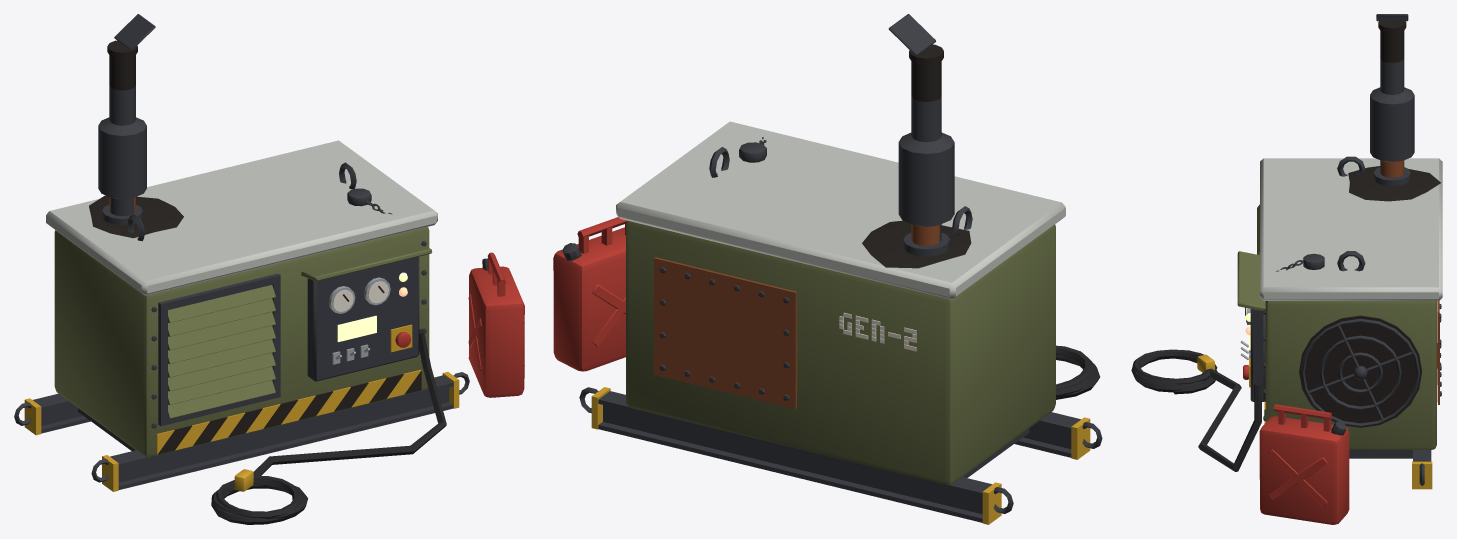
The model's file is deco_salvage_generator.fbx.
3 renders of one model, left to right at view 1: azimuth 30°, elevation 25°; view 2: azimuth 150°, elevation 25°; view 3: azimuth 270°, elevation 25°, orthographic. The views are drawn at different scales.
Visible parts, largest first — view 1: Salvage_Generator_Body, Salvage_Generator_Panel, Salvage_Generator_Skid, Salvage_Generator_Exhaust, Salvage_Generator_Can, Salvage_Generator_Cable; view 2: Salvage_Generator_Body, Salvage_Generator_Skid, Salvage_Generator_Exhaust, Salvage_Generator_Can, Salvage_Generator_Cable; view 3: Salvage_Generator_Body, Salvage_Generator_Can, Salvage_Generator_Exhaust, Salvage_Generator_Cable, Salvage_Generator_Panel, Salvage_Generator_Skid.
Part boxes in pixels (x1,y1,x2,y2): Salvage_Generator_Body: (46,140,437,457); Salvage_Generator_Panel: (301,244,431,381); Salvage_Generator_Skid: (14,372,469,491); Salvage_Generator_Exhaust: (89,14,183,238); Salvage_Generator_Can: (468,252,524,397); Salvage_Generator_Cable: (211,329,446,524); Salvage_Generator_Body: (616,121,1065,484); Salvage_Generator_Skid: (579,387,1102,524); Salvage_Generator_Exhaust: (862,14,971,268); Salvage_Generator_Can: (553,217,626,371); Salvage_Generator_Cable: (1056,345,1100,399); Salvage_Generator_Body: (1257,156,1442,449); Salvage_Generator_Can: (1259,404,1349,524); Salvage_Generator_Exhaust: (1348,14,1440,201); Salvage_Generator_Cable: (1131,349,1261,471); Salvage_Generator_Panel: (1237,251,1265,401); Salvage_Generator_Skid: (1349,450,1432,489).
Bounding box in the file's own units: 254 × 216 × 167.
